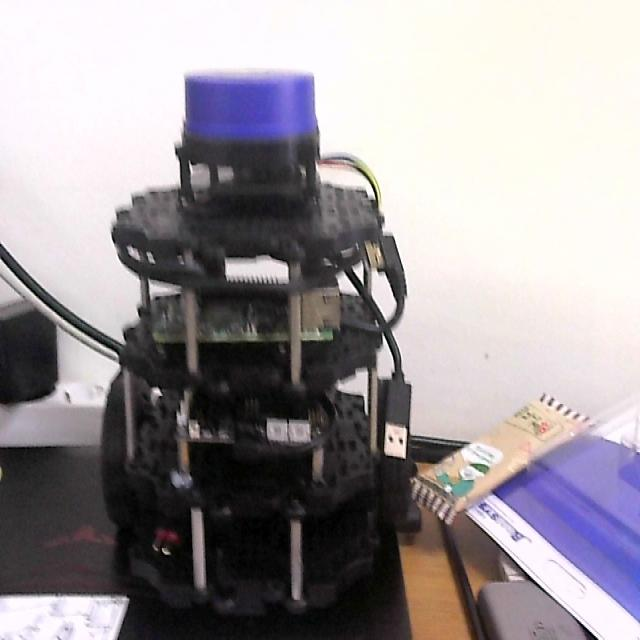turtle: (99, 67, 411, 640)
